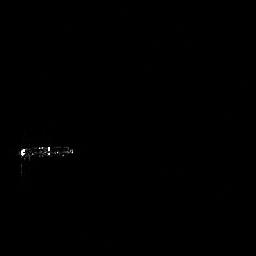ship: (17, 143, 79, 162)
